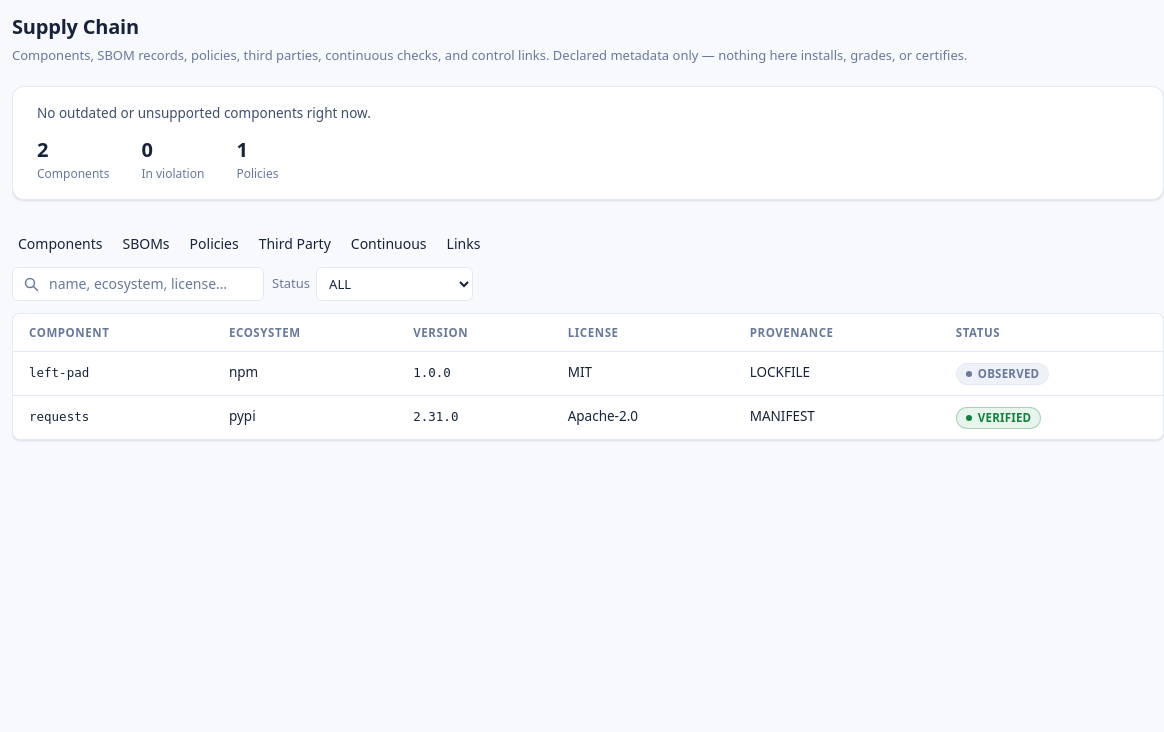
Scenario: SupplyChain view › shows third-party vendors without trust states
Expected: the text "left-pad" is shown, [29, 365, 89, 380]
Click the tab "Third Party" at (295, 243), box [253, 232, 337, 255]
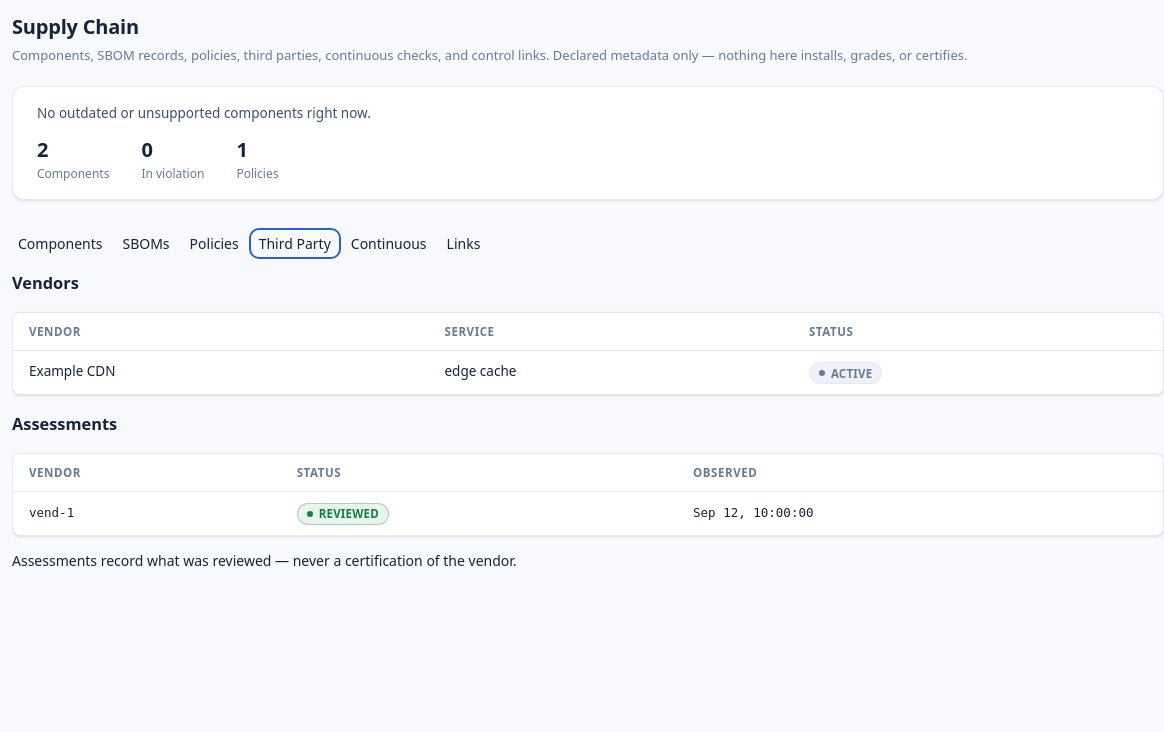
Expected: the text "Example CDN" is shown, [13, 351, 428, 394]
Expected: the text "REVIEWED" is shown, [297, 503, 389, 525]
